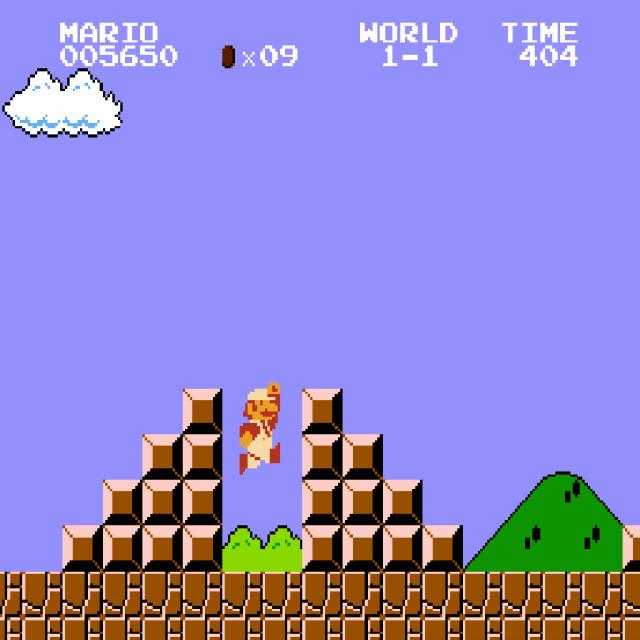fire_mario: (237, 380, 280, 474)
hard_block: (102, 480, 143, 526), (142, 434, 183, 480), (142, 480, 183, 526), (182, 434, 223, 480), (182, 480, 223, 526), (302, 434, 343, 480), (302, 480, 343, 526), (342, 434, 383, 480), (342, 480, 383, 526), (382, 480, 423, 526), (62, 526, 103, 571), (102, 526, 143, 571), (142, 526, 183, 571), (182, 389, 223, 434), (182, 526, 223, 571), (302, 389, 343, 434), (302, 526, 343, 571), (342, 526, 383, 571), (382, 526, 423, 571), (422, 526, 463, 571), (622, 525, 640, 571)
undestructible_block: (22, 572, 63, 617), (62, 572, 103, 617), (102, 572, 143, 617), (142, 572, 183, 617), (182, 572, 223, 617), (222, 572, 263, 617), (262, 572, 303, 617), (302, 572, 343, 617), (342, 572, 383, 617), (382, 572, 423, 617), (422, 572, 463, 617), (462, 572, 503, 617), (502, 572, 543, 617), (542, 572, 583, 617), (582, 572, 623, 617), (0, 572, 22, 617), (22, 617, 63, 640), (62, 617, 103, 640), (102, 617, 143, 640), (142, 617, 183, 640), (182, 617, 223, 640), (222, 617, 263, 640), (262, 617, 303, 640), (302, 617, 343, 640), (342, 617, 383, 640), (382, 617, 423, 640), (422, 617, 463, 640), (462, 617, 503, 640), (502, 617, 543, 640), (542, 617, 583, 640), (582, 617, 623, 640), (622, 571, 640, 617), (0, 617, 22, 640), (622, 617, 640, 639)
